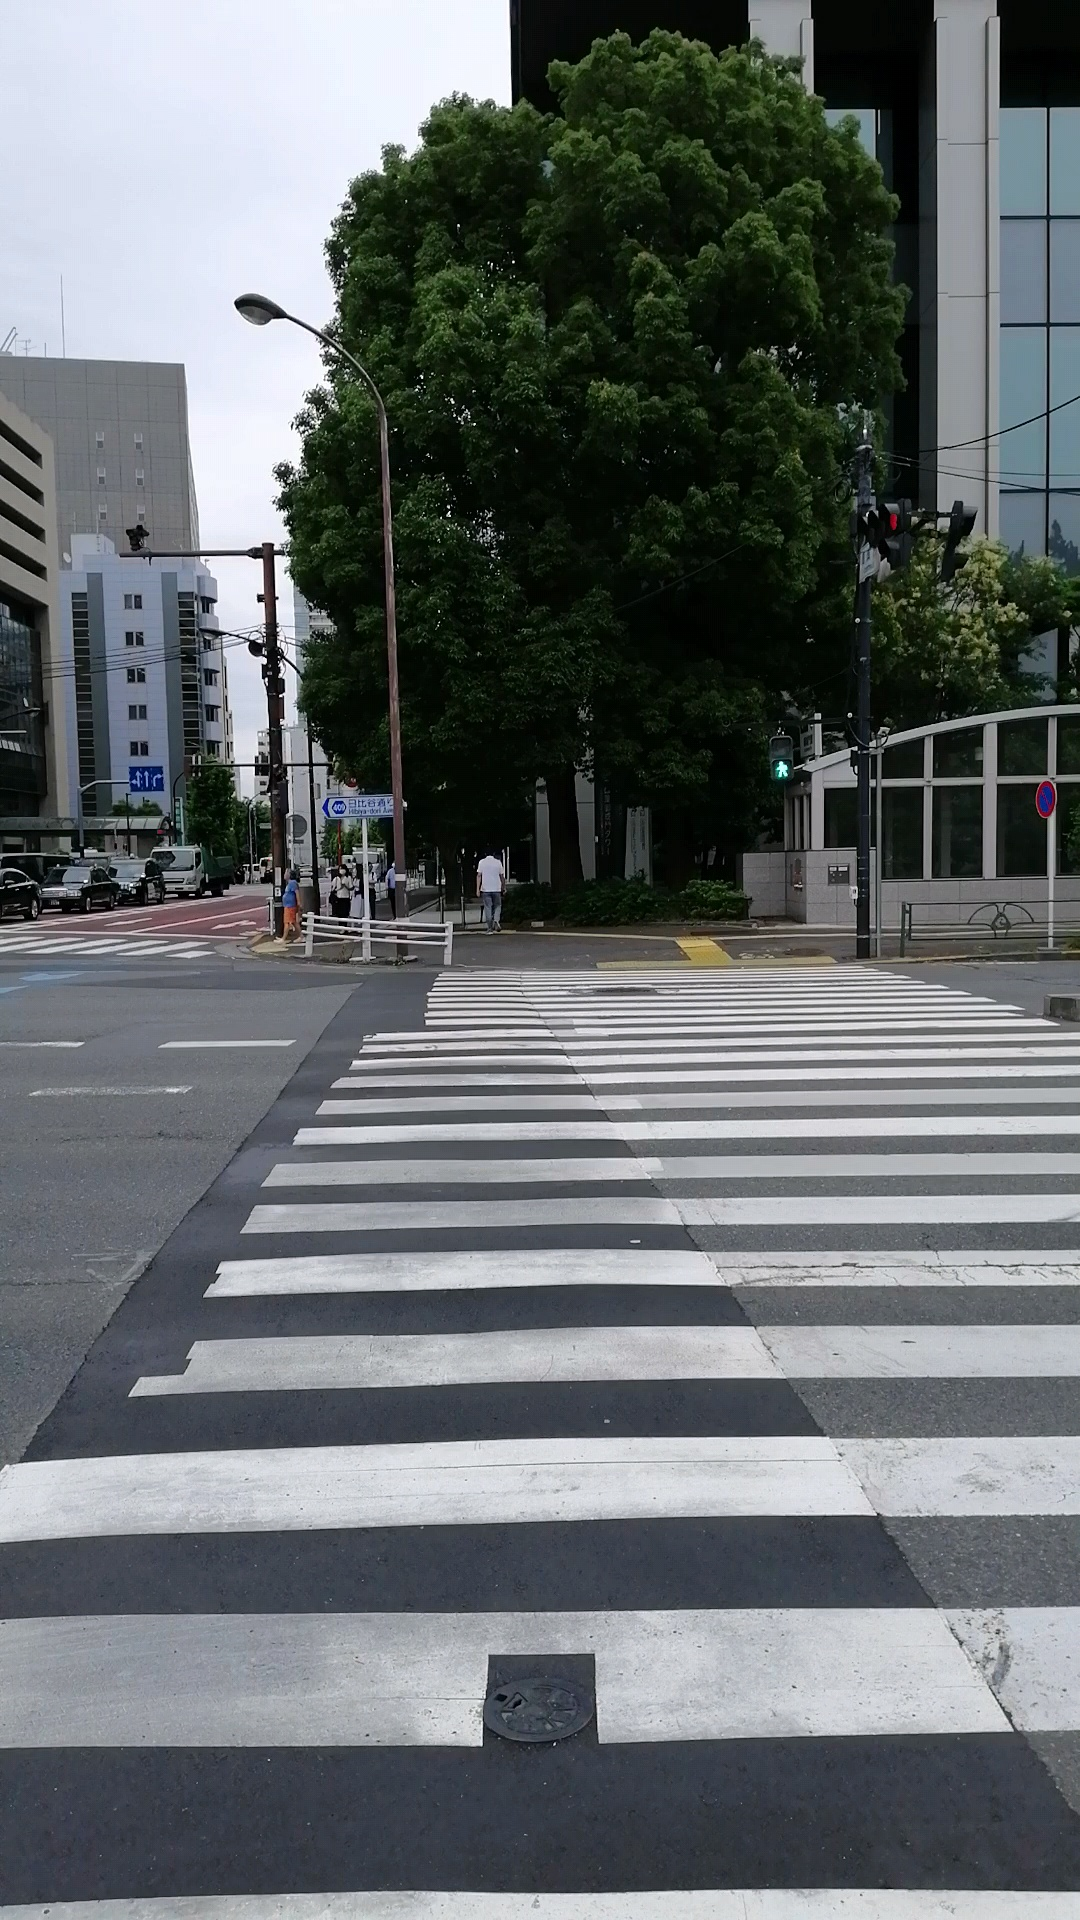green: (767, 735, 793, 782)
